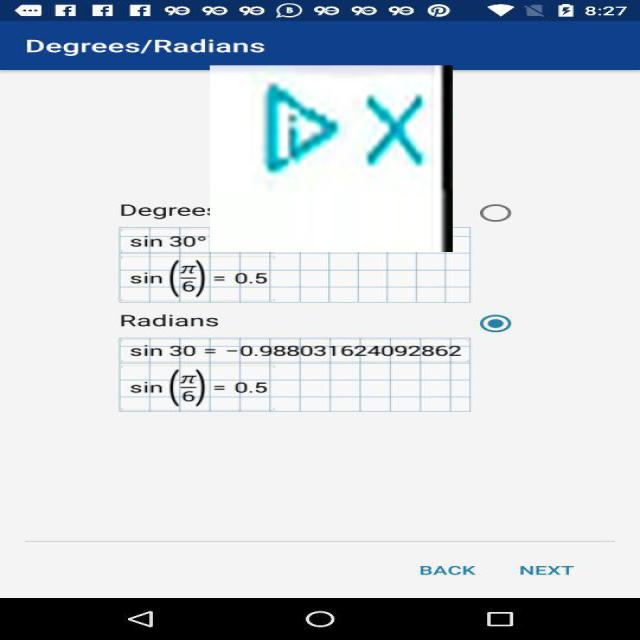sneaking: (210, 65, 453, 252)
